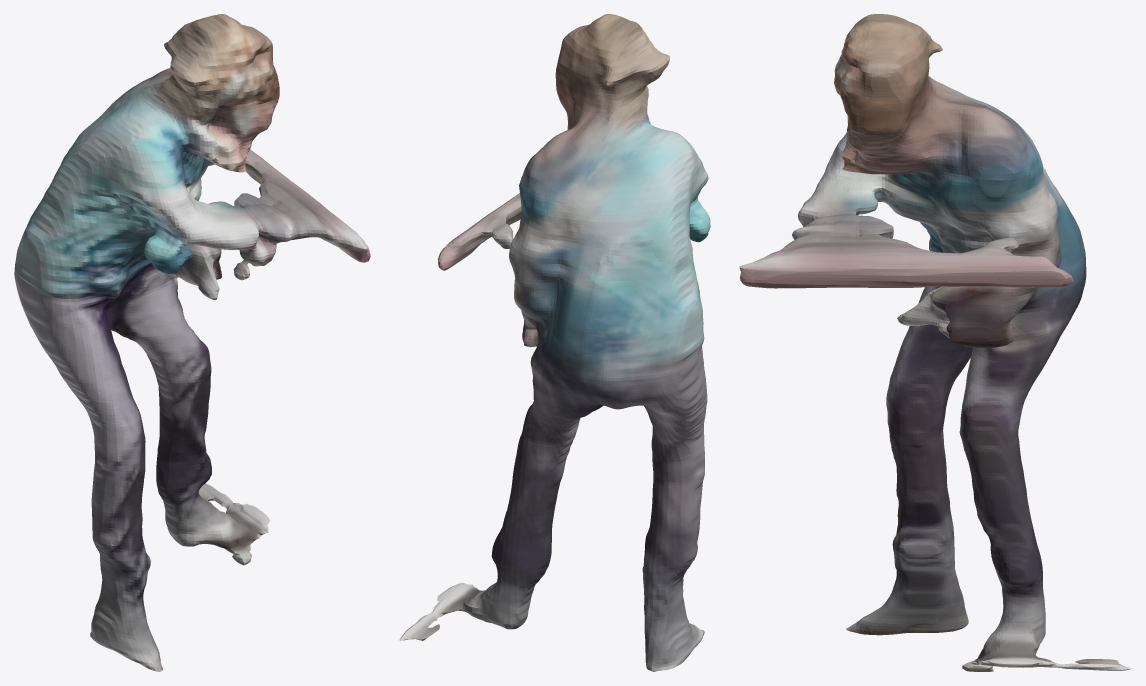
Rendered from 0076_tex.glb.
3 views of the same model, side by side, from view 1: azimuth 30°, elevation 25°; view 2: azimuth 150°, elevation 25°; view 3: azimuth 270°, elevation 25° (orthographic). The views are drawn at different scales.
Parts seen in each view (by area): view 1: 0076_tex.obj; view 2: 0076_tex.obj; view 3: 0076_tex.obj.
Part boxes in pixels (left/top/right/bottom): 0076_tex.obj: left=14, top=14, right=370, bottom=671; 0076_tex.obj: left=399, top=14, right=710, bottom=671; 0076_tex.obj: left=739, top=14, right=1131, bottom=671.
Bounding box in the file's own units: 0.3601 × 0.8793 × 0.479.
